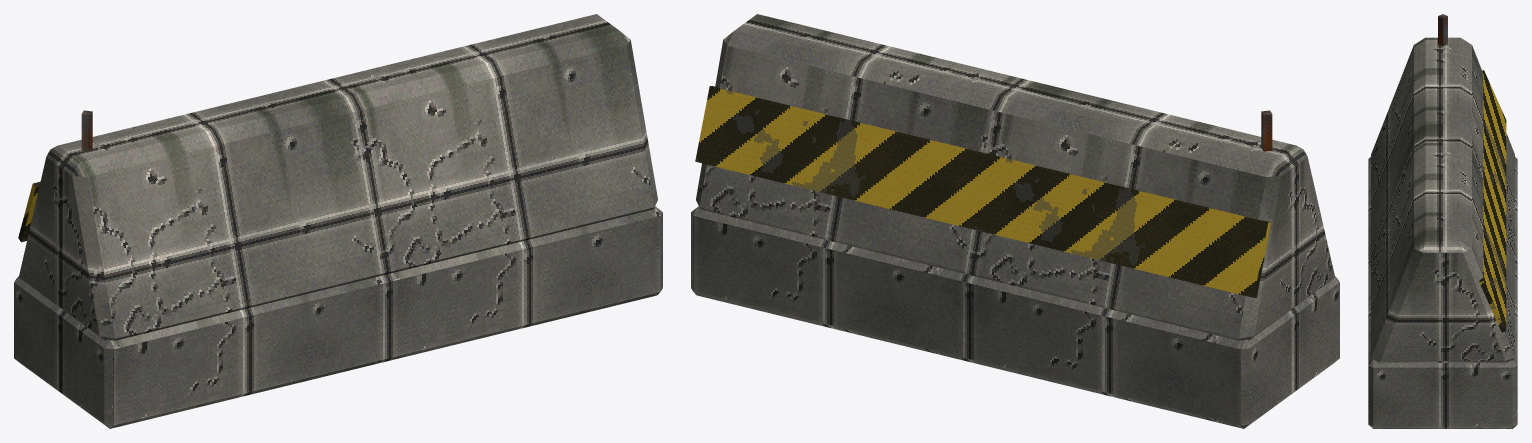
The model's file is prop_jersey_barrier.glb.
3 views of the same model, side by side, from view 1: azimuth 30°, elevation 25°; view 2: azimuth 150°, elevation 25°; view 3: azimuth 270°, elevation 25° (orthographic). The views are drawn at different scales.
Visible parts, largest first — view 1: prop_jersey_barrier_mesh; view 2: prop_jersey_barrier_mesh; view 3: prop_jersey_barrier_mesh.
Boxes of the visible parts, <box> form: prop_jersey_barrier_mesh: <box>14,14,662,428</box>; prop_jersey_barrier_mesh: <box>691,14,1339,428</box>; prop_jersey_barrier_mesh: <box>1368,14,1517,428</box>.
Bounding box in the file's own units: 2 × 0.95 × 0.6.
Materials: 3 (3 with a texture image).
